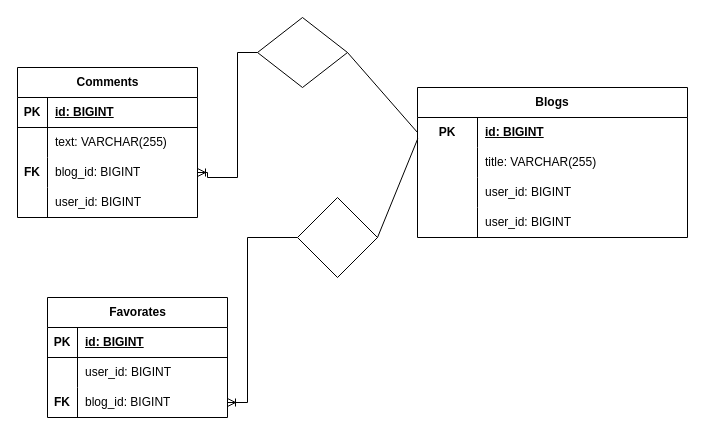
Image size: 705x435. Some labels were removed from this diagram. Each missing label, with the centre of its shape:
has comments: (x=302, y=52)
has favorates: (x=337, y=237)
